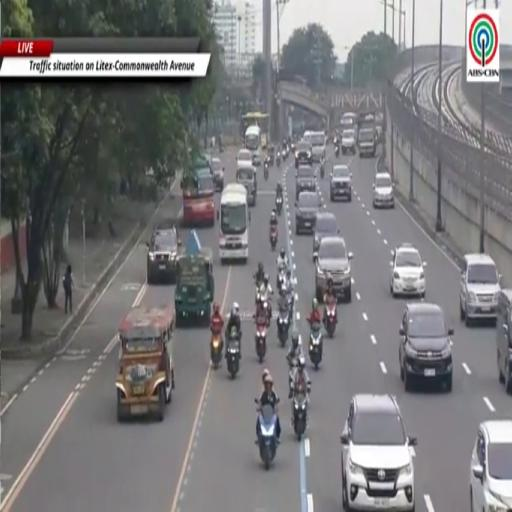bus: (219, 184, 249, 264), (182, 156, 215, 227), (241, 112, 269, 150), (245, 125, 261, 166)
car: (340, 394, 416, 511), (399, 302, 453, 392), (469, 419, 512, 512), (460, 253, 501, 326), (315, 235, 353, 302), (390, 244, 426, 298), (147, 227, 181, 284), (496, 290, 511, 394), (312, 210, 340, 261), (295, 191, 320, 234), (373, 172, 394, 209), (330, 165, 351, 201), (295, 166, 315, 199), (309, 132, 326, 163), (358, 128, 376, 157), (295, 141, 312, 168), (212, 157, 224, 191), (341, 128, 356, 154), (237, 149, 253, 167)
jeepney: (116, 307, 174, 421), (175, 248, 214, 327), (236, 166, 257, 205)
motorcycle: (258, 405, 277, 470), (309, 324, 323, 370), (226, 333, 240, 378), (293, 393, 306, 440), (277, 310, 290, 348), (255, 325, 266, 363), (211, 333, 222, 369), (325, 304, 336, 338), (277, 268, 287, 293), (264, 299, 272, 327), (270, 226, 277, 250), (288, 291, 294, 318), (276, 196, 282, 216), (255, 285, 260, 305), (264, 162, 269, 180), (320, 160, 324, 179), (276, 152, 281, 167), (283, 146, 288, 161), (335, 146, 339, 157)
